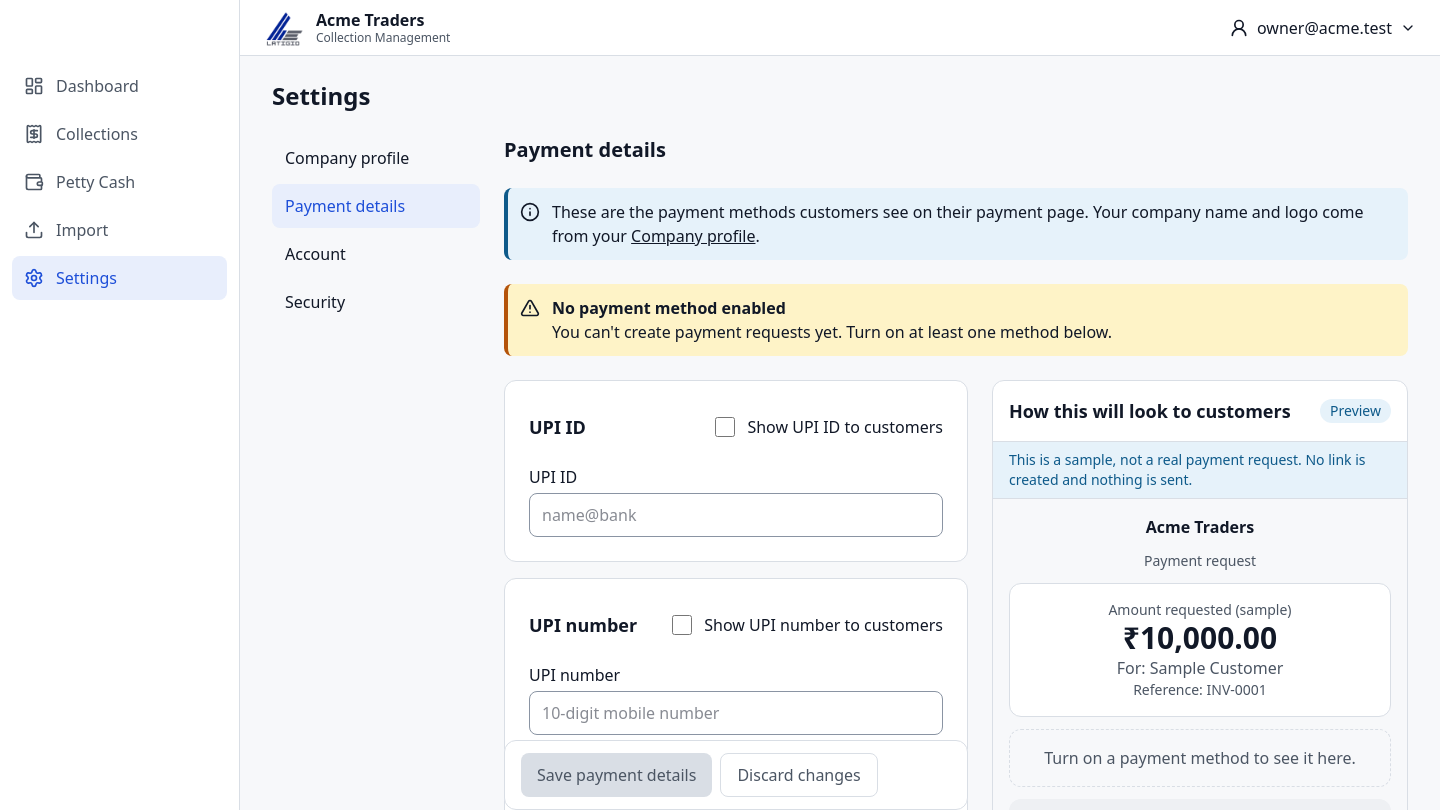
Test: client-side validation › UPI number: 12345 -> Enter a 10-digit mobile number starting with 6, 7, 8 or 9
Type "12345" into the field labelled "UPI number" at point(736, 713), box [529, 691, 943, 735]
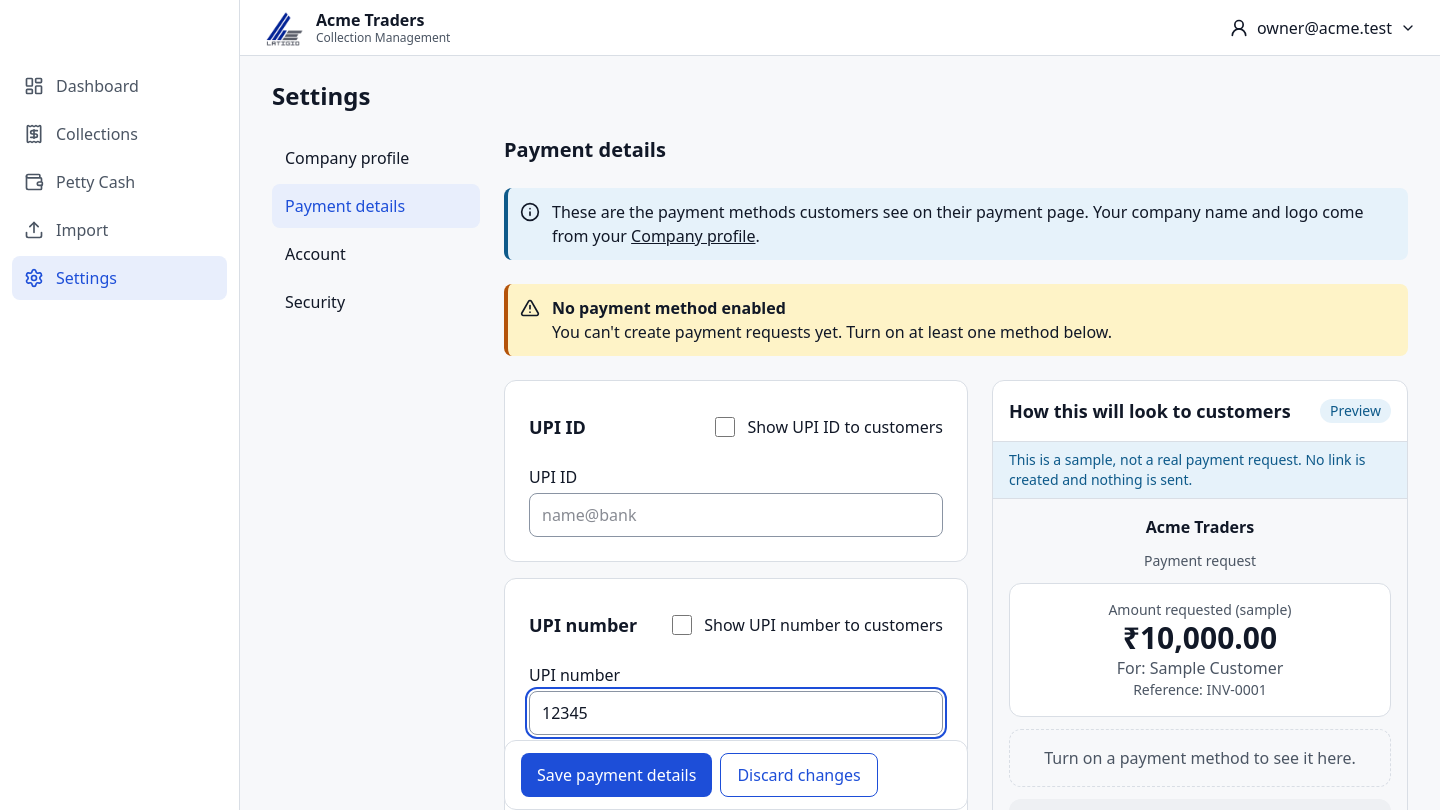
Click the button "Save payment details" at point(617, 775), box [521, 753, 712, 797]
(page scrolled)
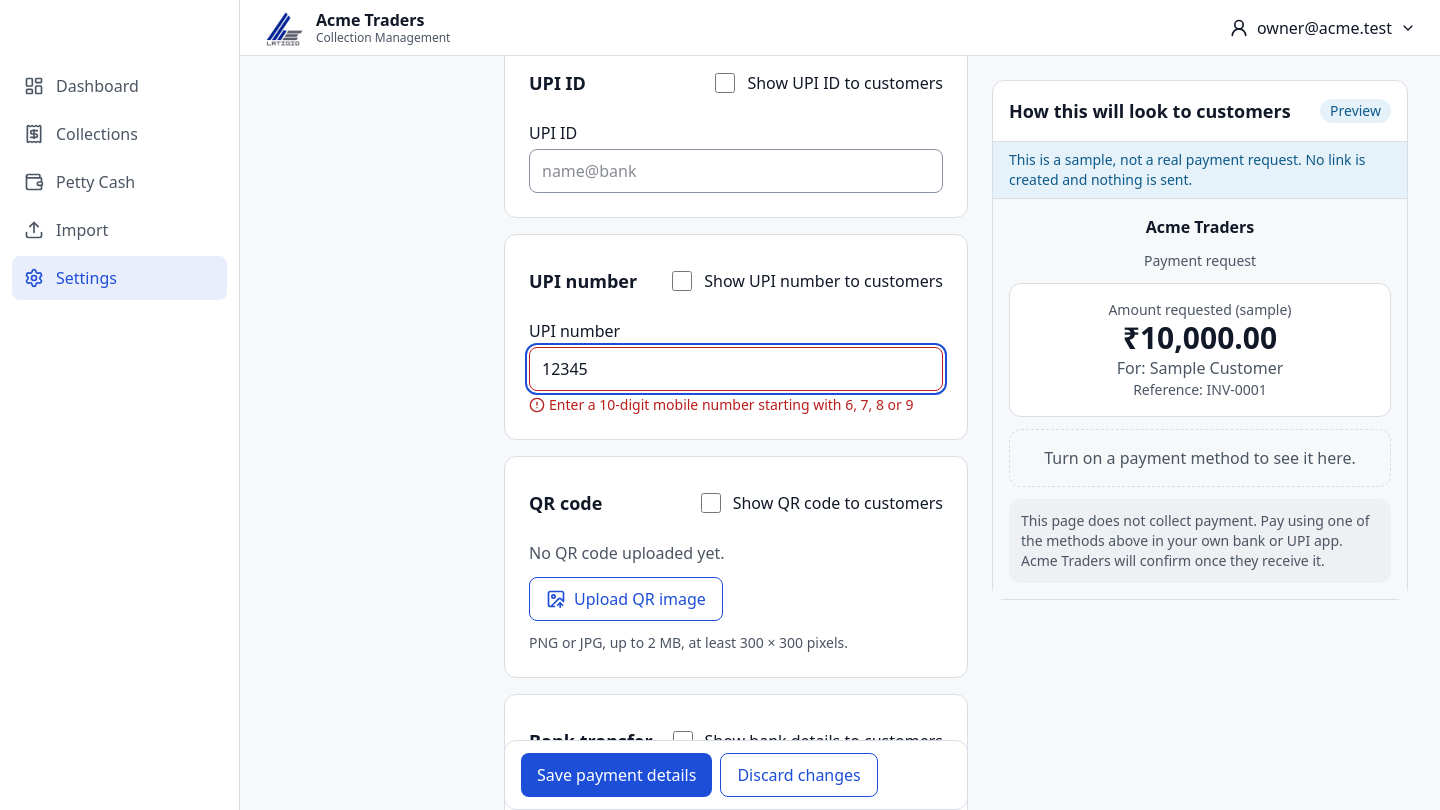
Expected: the text "Enter a 10-digit mobile number starting with 6, 7, 8 or 9" is shown, [529, 395, 943, 415]
